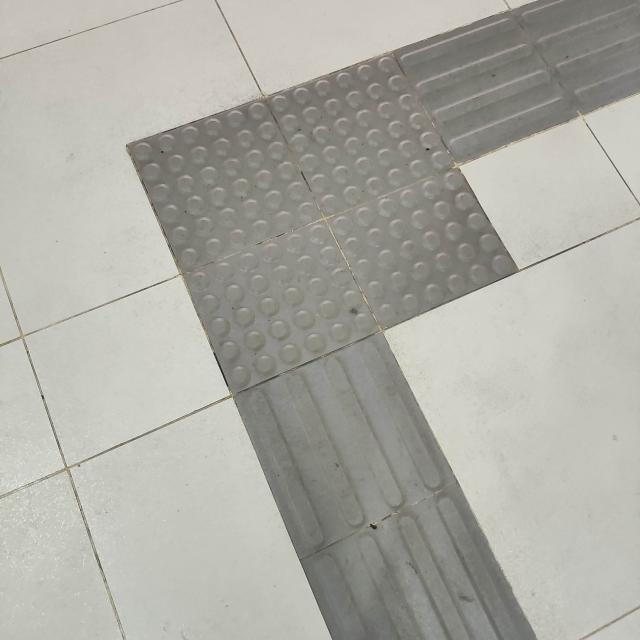kanan: (83, 0, 640, 441)
